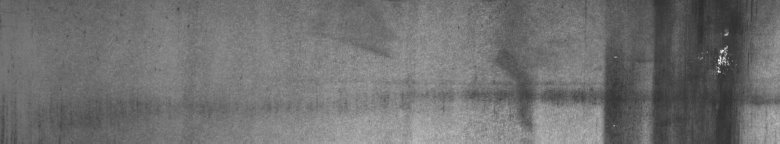hc: (526, 29, 776, 136)
